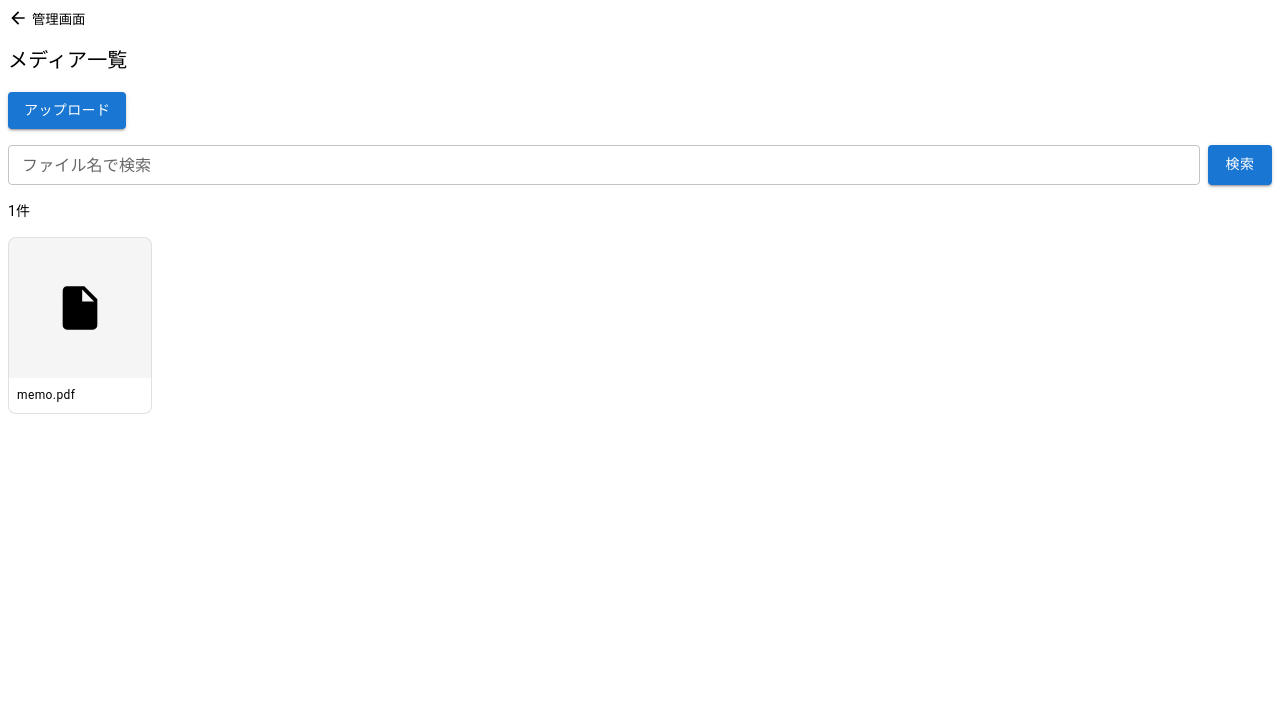
Test: AdminMedia › 非画像メディアの詳細情報を表示する
Click the button with aria-label "memo.pdfの詳細を表示". click: (80,325)
box: [8,236,152,414]
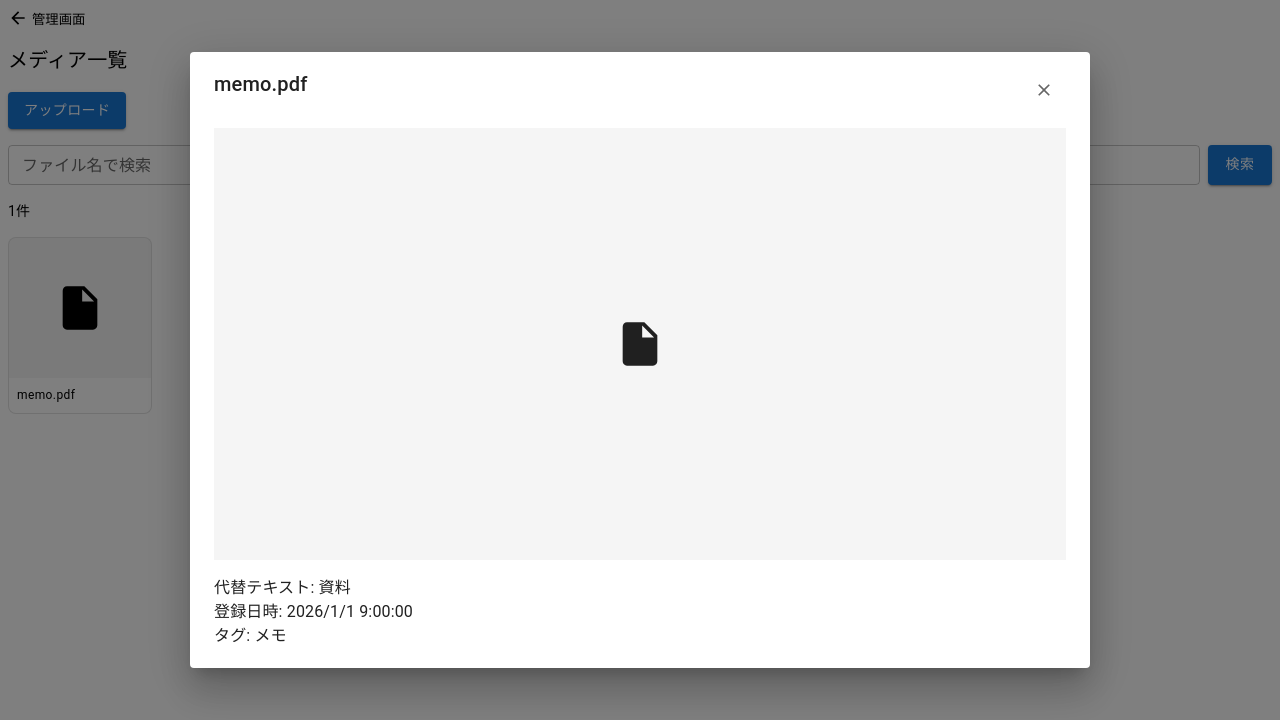
Expected: the dialog "memo.pdf" is shown
Expected: the text "代替テキスト: 資料" is shown, [214,578,351,597]
Expected: the text "タグ: メモ" is shown, [214,626,287,645]
